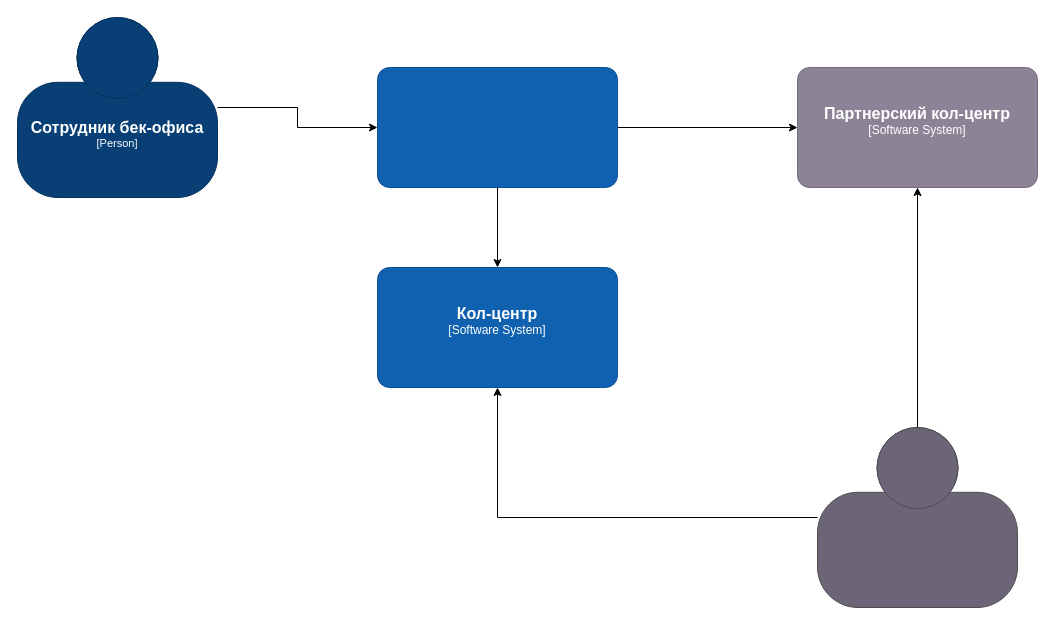
This 1055x625 diagram has some shape labels left out. The shapes that lost their labels are listed below. From the top down, each one's box as (x1, y1, x2, y2) in pixels, then its label:
(376, 66, 618, 188): Банк [Software System]
(816, 426, 1018, 608): Клиент [Person]
